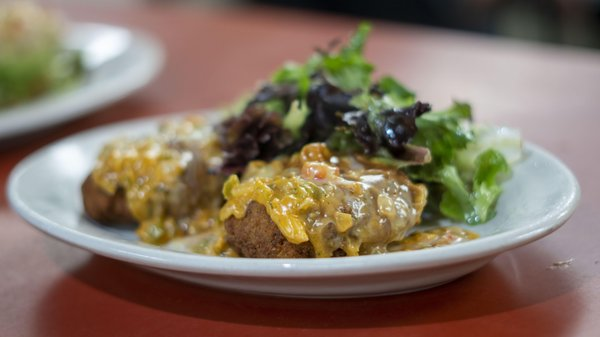curry: (403, 102, 523, 225)
